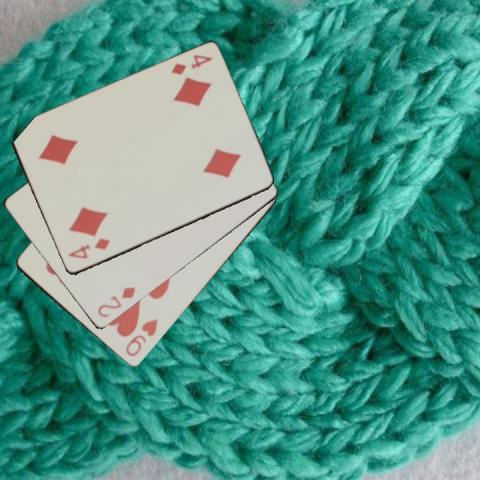2d: (94, 284, 137, 320)
4d: (65, 235, 111, 261), (168, 52, 215, 77)
9h: (122, 316, 159, 359)
